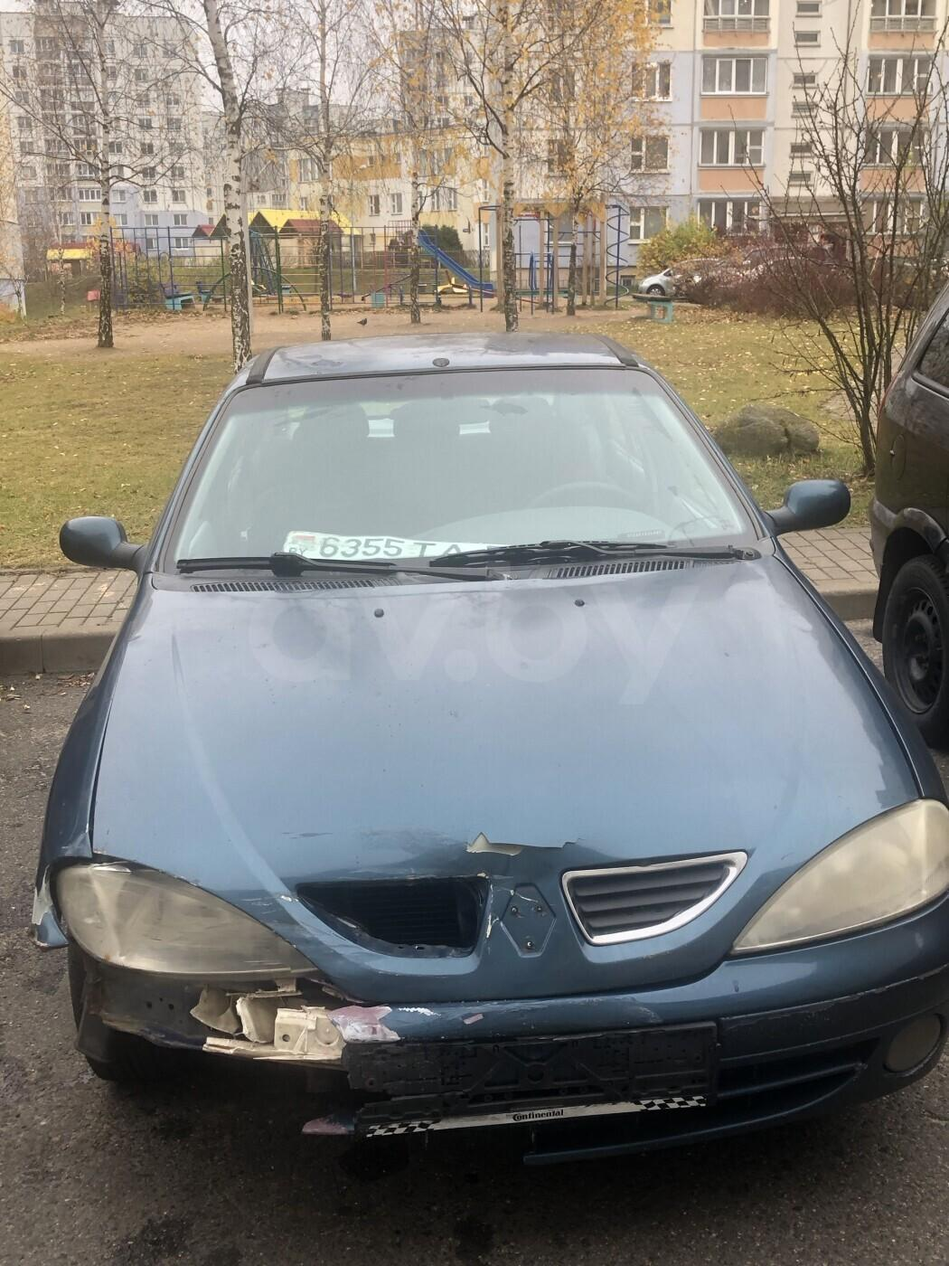Megane_1999-2003: (43, 335, 949, 1181)
